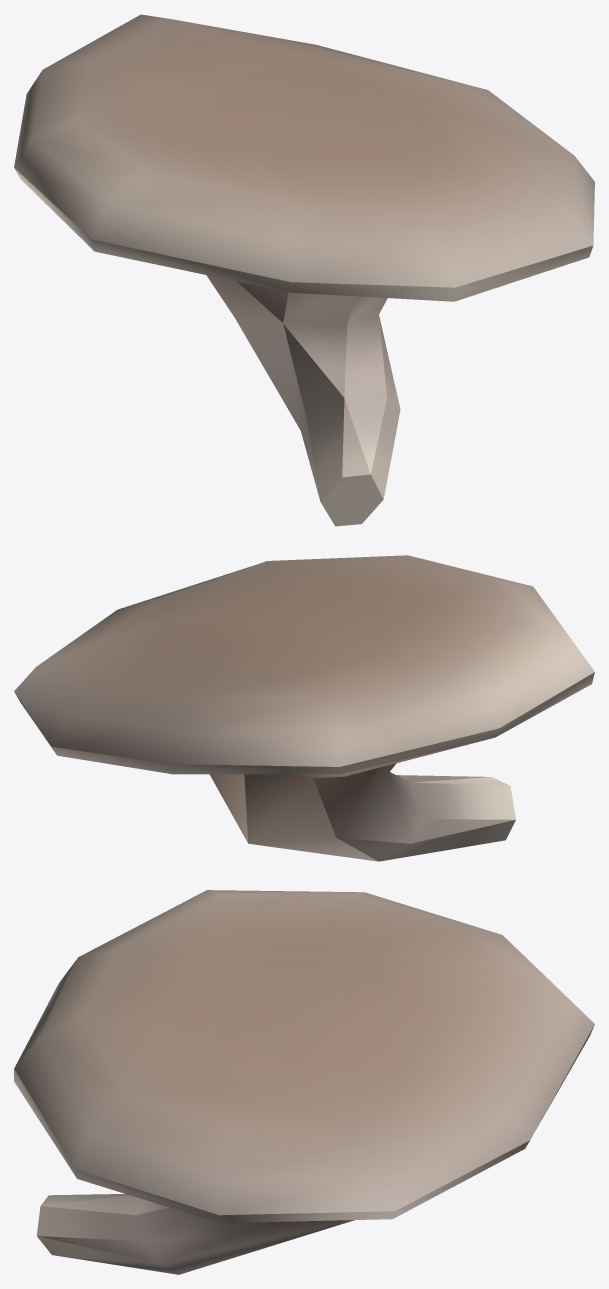
The model's file is OysterMushroom01.fbx.
3 renders of one model, top to bottom at view 1: azimuth 30°, elevation 25°; view 2: azimuth 150°, elevation 25°; view 3: azimuth 270°, elevation 25°, orthographic. The views are drawn at different scales.
Visible parts, largest first — view 1: OysterMushroom2; view 2: OysterMushroom2; view 3: OysterMushroom2.
Boxes of the visible parts, box(x1,y1,x2,y2) form: OysterMushroom2: box(14, 14, 594, 526); OysterMushroom2: box(14, 555, 594, 861); OysterMushroom2: box(14, 890, 594, 1274).
Bounding box in the file's own units: 8.58 × 5.1 × 8.91.
